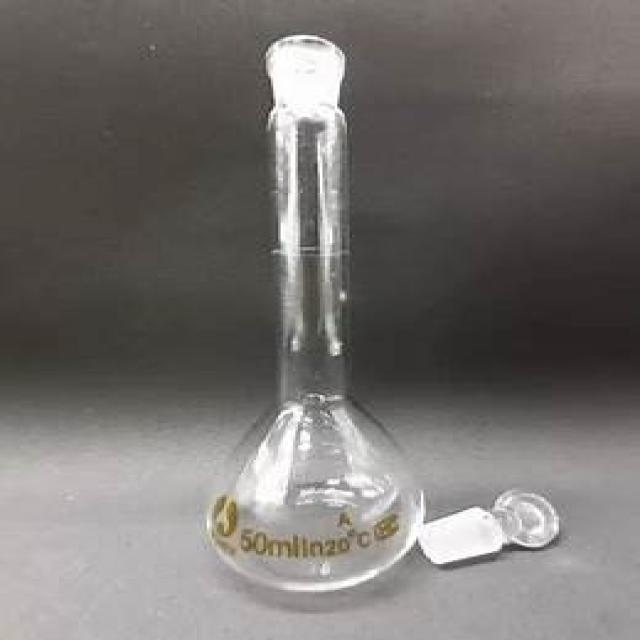Volumetric flask: (203, 17, 430, 597)
